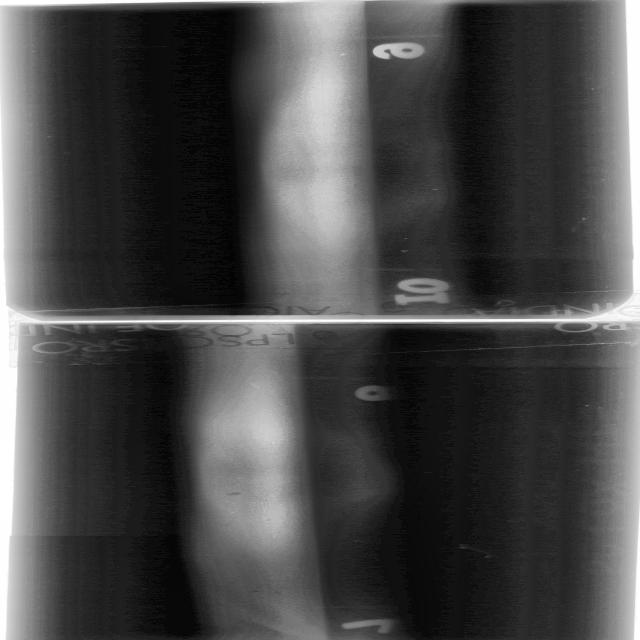LOP: (350, 21, 360, 218)
porosity: (223, 492, 246, 498)
